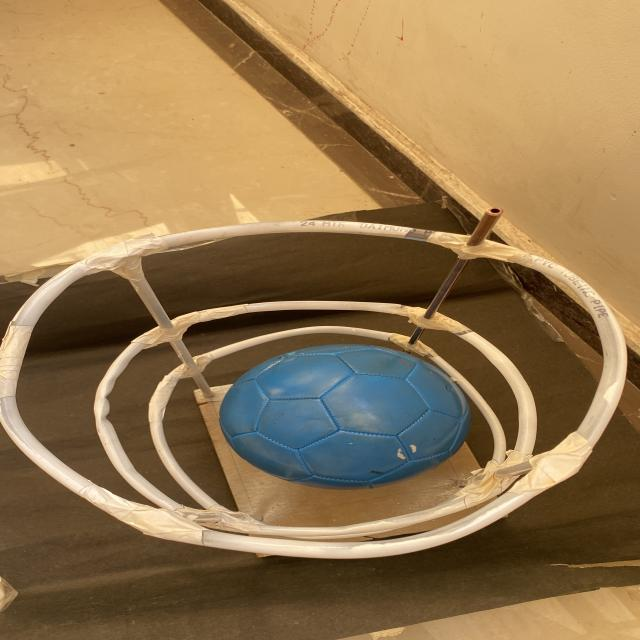blue_ball: (215, 344, 473, 489)
silo: (0, 214, 640, 556)
